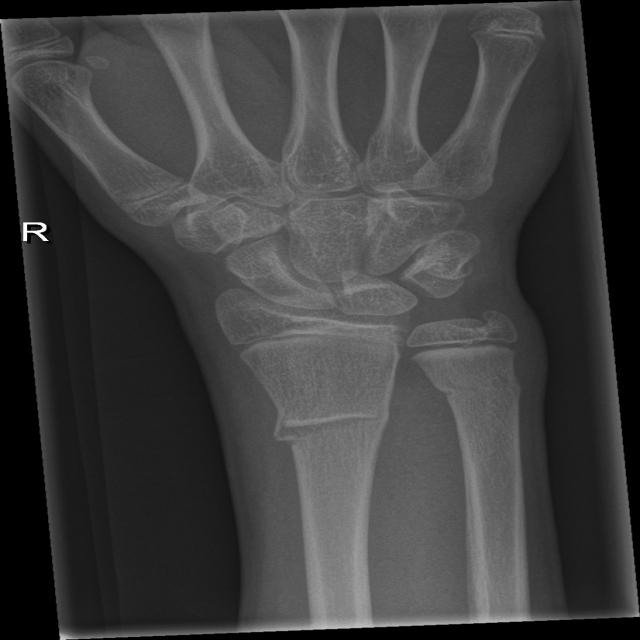radius fracture: (231, 373, 414, 508)
ulna fracture: (406, 345, 550, 491)
